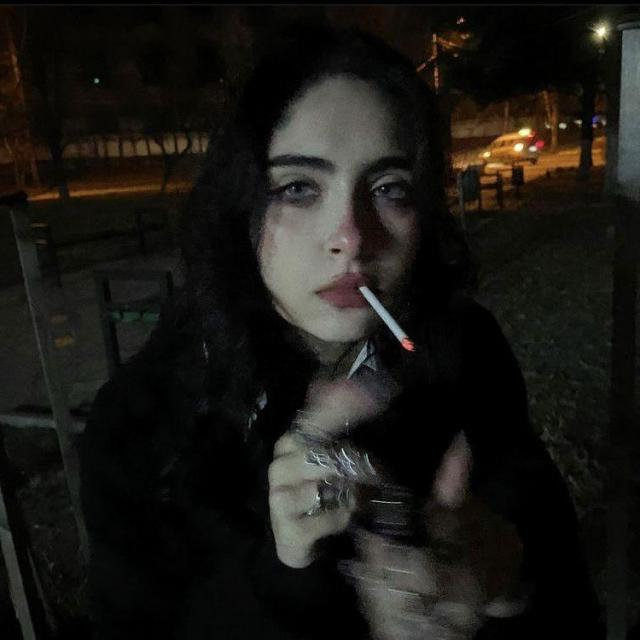cigarette: (352, 270, 421, 360)
